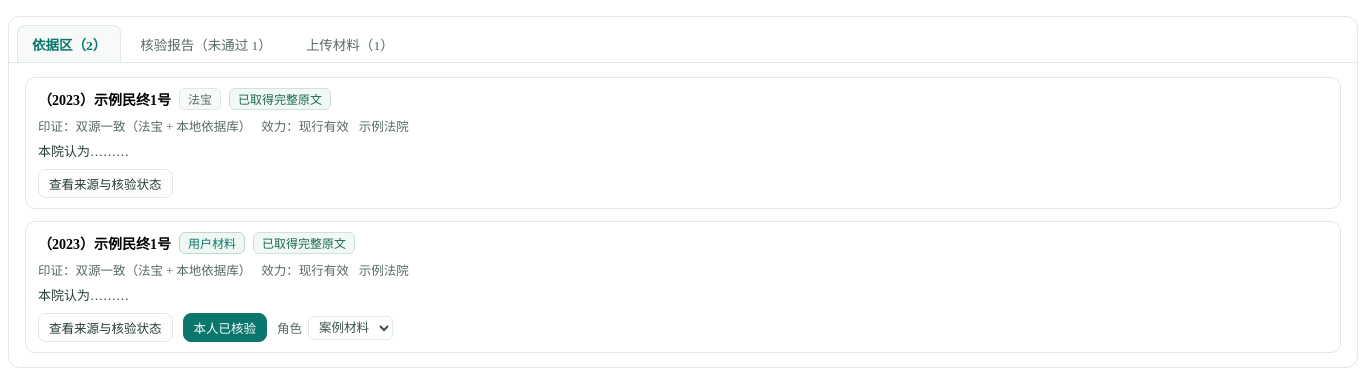
Scenario: 依据区 / 核验报告 / 上传材料 › 上传失败的文件逐条列出原因（部分失败不阻断）
The width and height of the screenshot is (1366, 385).
What coordinates should you click on to do the following:
click the tab "上传材料（1）"
I would click on:
 (350, 44)
Its box is [291,25,409,62].
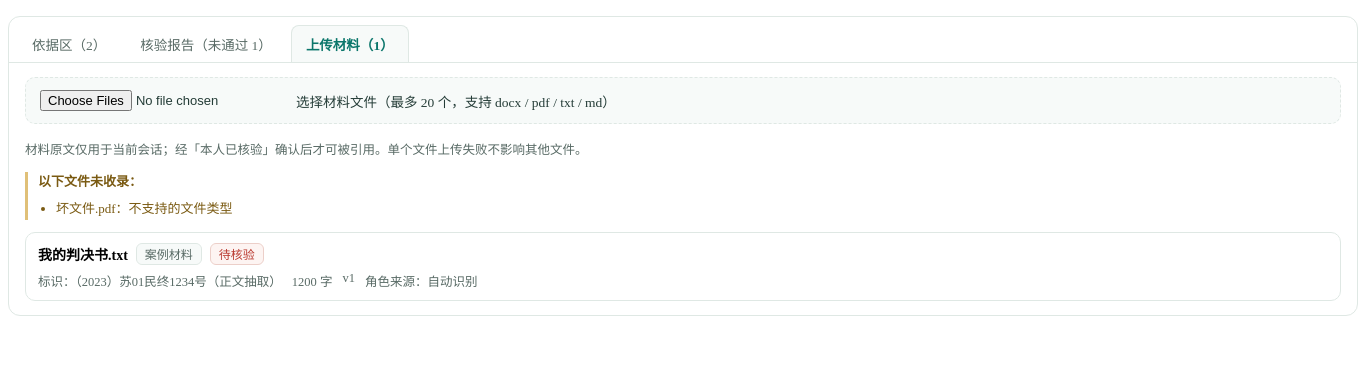
Expected: the list item "坏文件.pdf：不支持的文件类型" is shown, [56,201,233,216]
